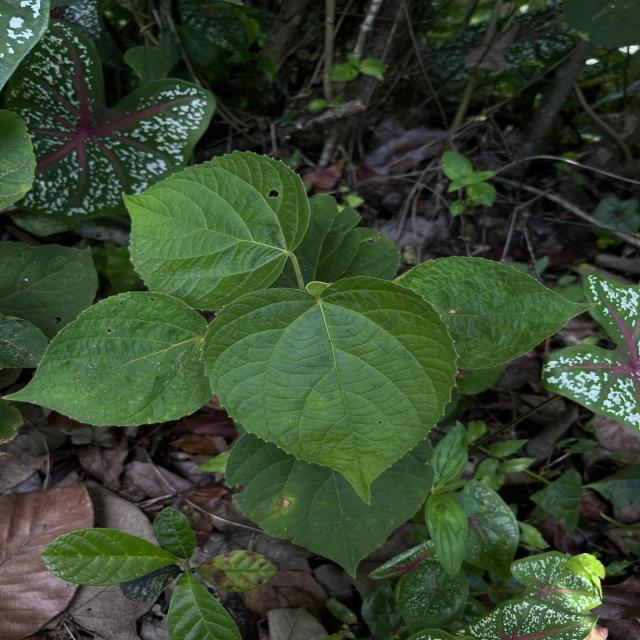Clerodendrum infortunatum: (198, 274, 462, 507), (224, 429, 438, 581), (120, 149, 312, 314), (0, 290, 216, 428), (388, 255, 602, 372)
